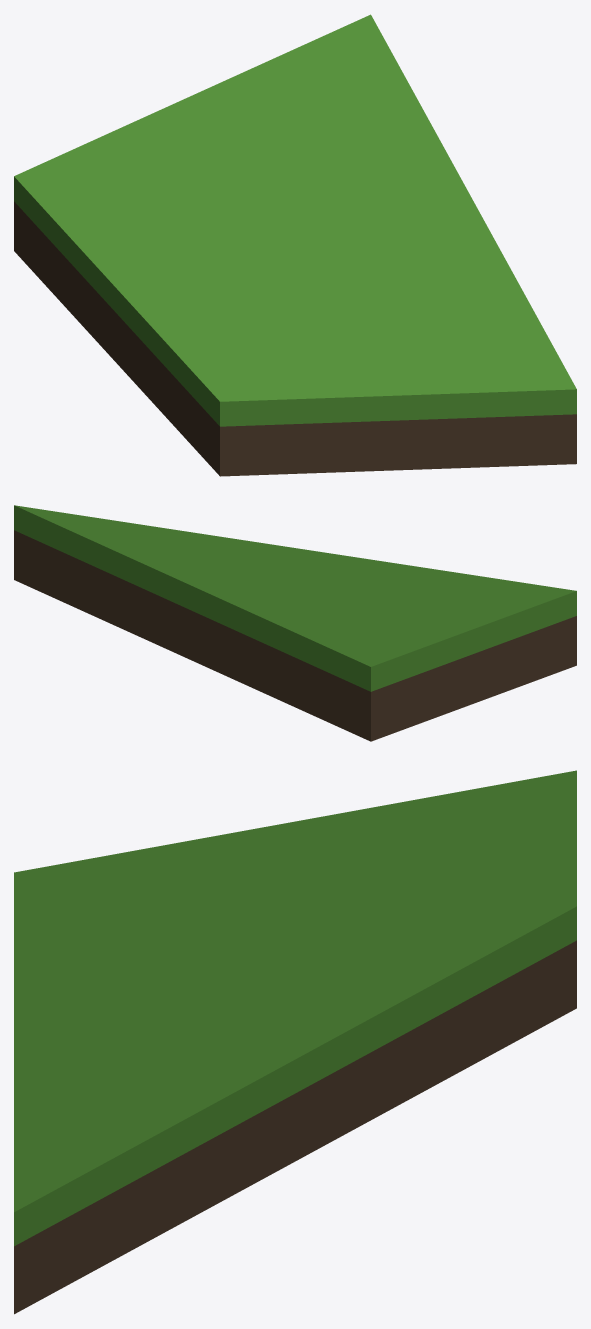
File: tile-hill-askew-valley-corner.glb
3 views of the same model, one above another, from view 1: azimuth 30°, elevation 25°; view 2: azimuth 150°, elevation 25°; view 3: azimuth 270°, elevation 25° (orthographic). The views are drawn at different scales.
Parts seen in each view (by area): view 1: tile-hill-askew-valley-corner; view 2: tile-hill-askew-valley-corner; view 3: tile-hill-askew-valley-corner.
Part boxes in pixels (left/top/right/bottom): tile-hill-askew-valley-corner: left=14, top=14, right=576, bottom=476; tile-hill-askew-valley-corner: left=14, top=505, right=576, bottom=741; tile-hill-askew-valley-corner: left=14, top=770, right=576, bottom=1314.
Bounding box in the file's own units: 30 × 24 × 30.
Materials: 1 (1 with a texture image).
